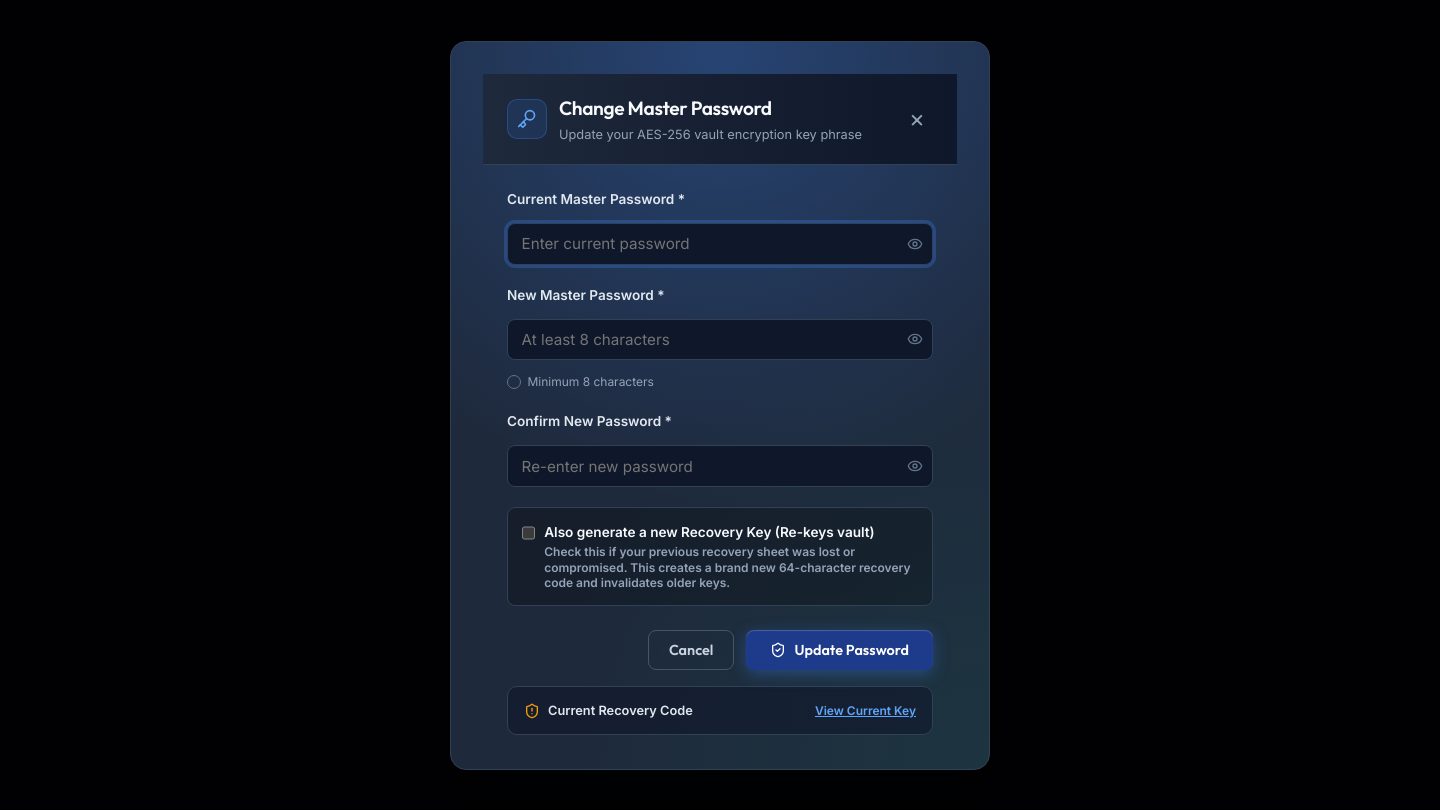
Test case: ChangePasswordModal Component › validates minimum password length and matching passwords
The width and height of the screenshot is (1440, 810).
In the password field with placeholder "Enter current password": (720, 244) [507,223,933,265], type "oldPass123"
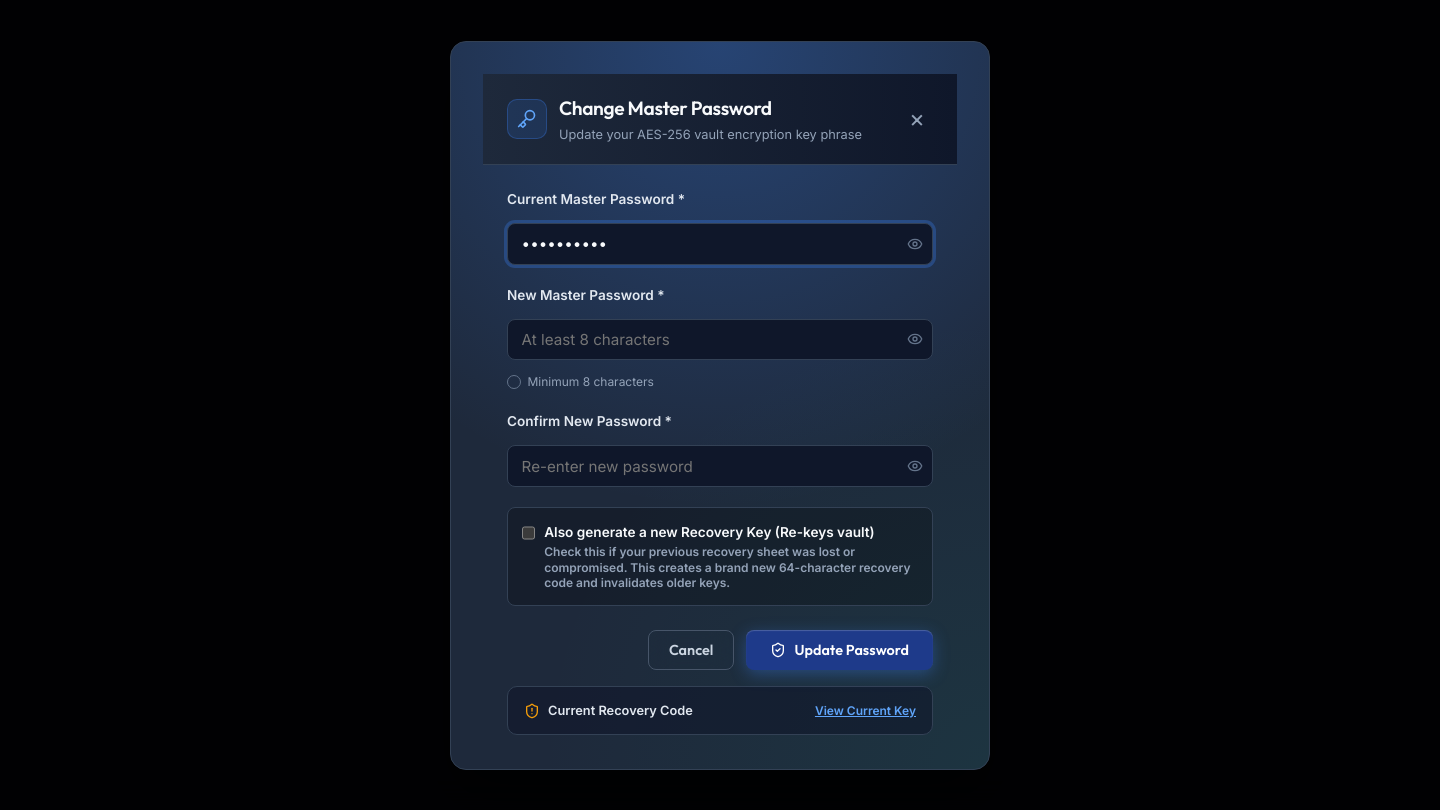
In the password field with placeholder "At least 8 characters": (720, 340) [507,319,933,360], type "short"
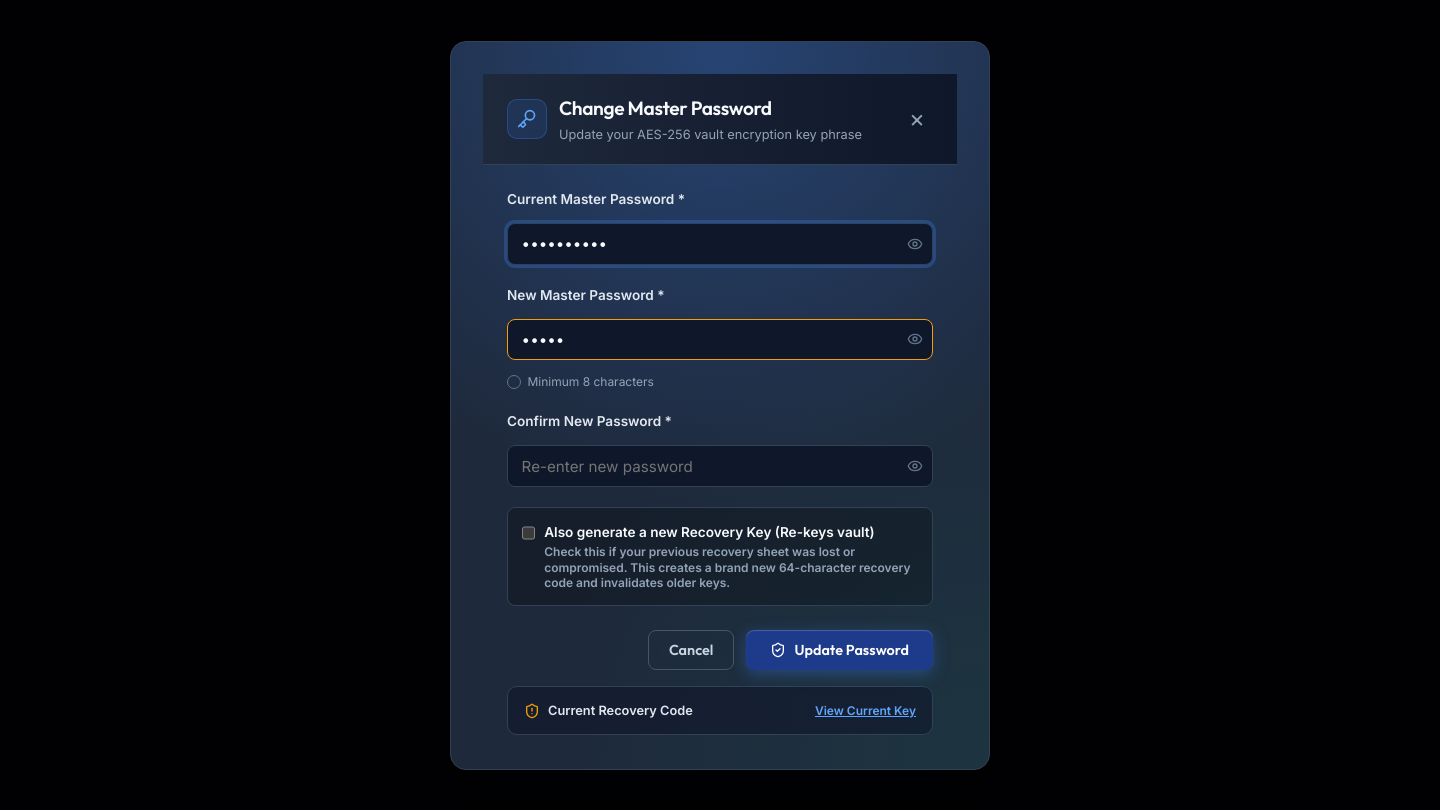
In the password field with placeholder "Re-enter new password": (720, 466) [507,445,933,487], type "short"
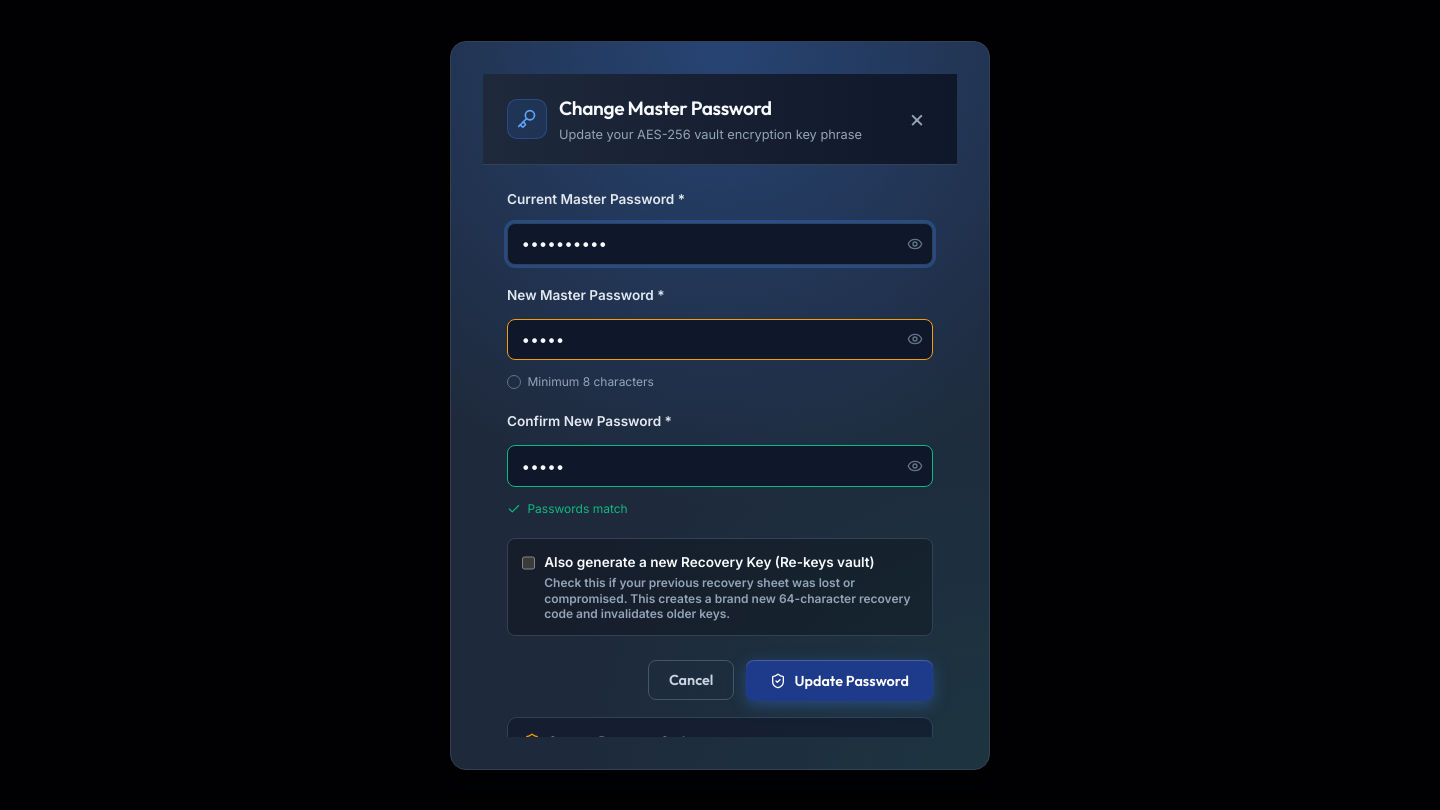
Expected: the button "Update Password" is disabled, [746,660,933,701]
Mismatched passwords
In the password field with placeholder "At least 8 characters" below "New Master Password *": (720, 340) [507,319,933,360], type "ValidPass123"
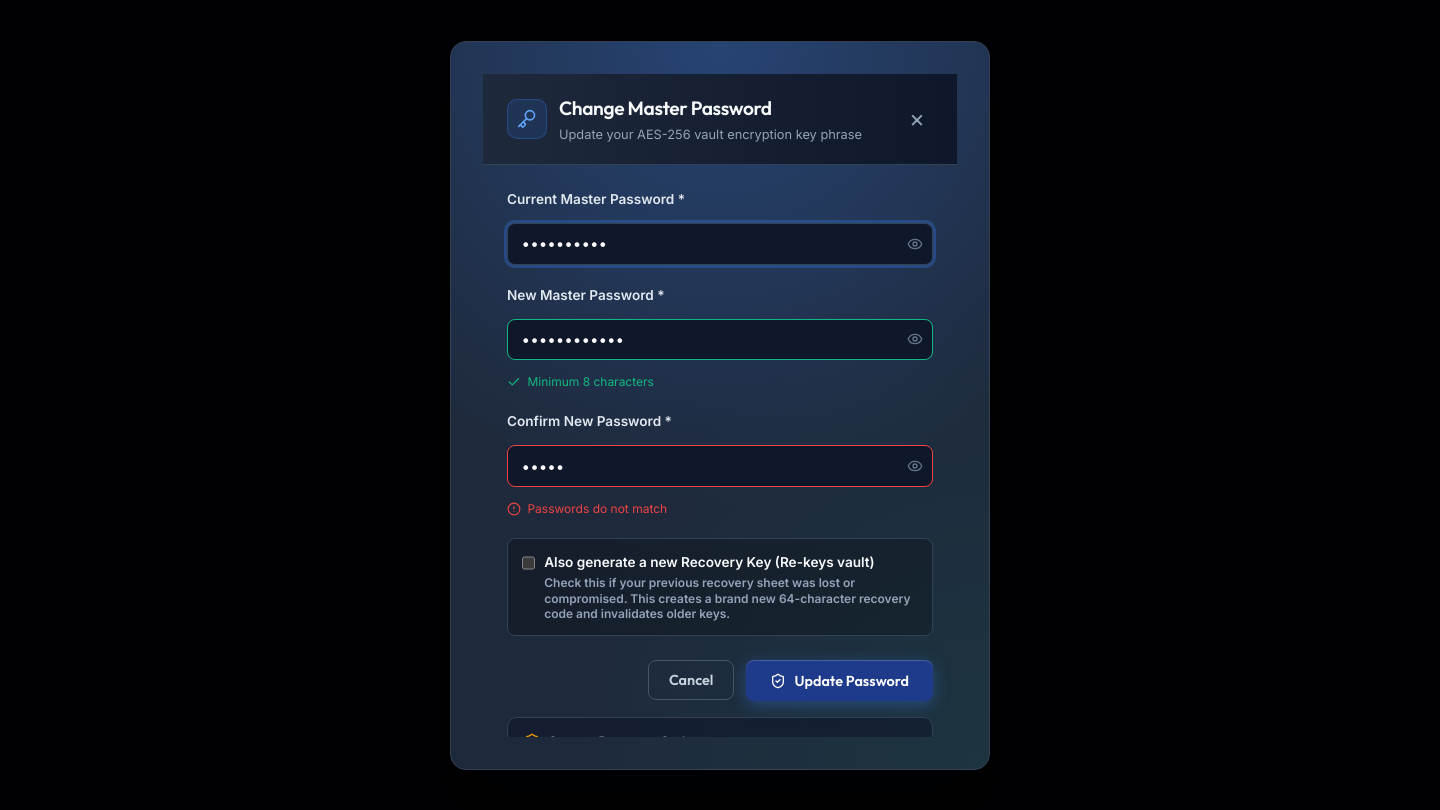
In the password field with placeholder "Re-enter new password" below "Confirm New Password *": (720, 466) [507,445,933,487], type "DifferentPass123"
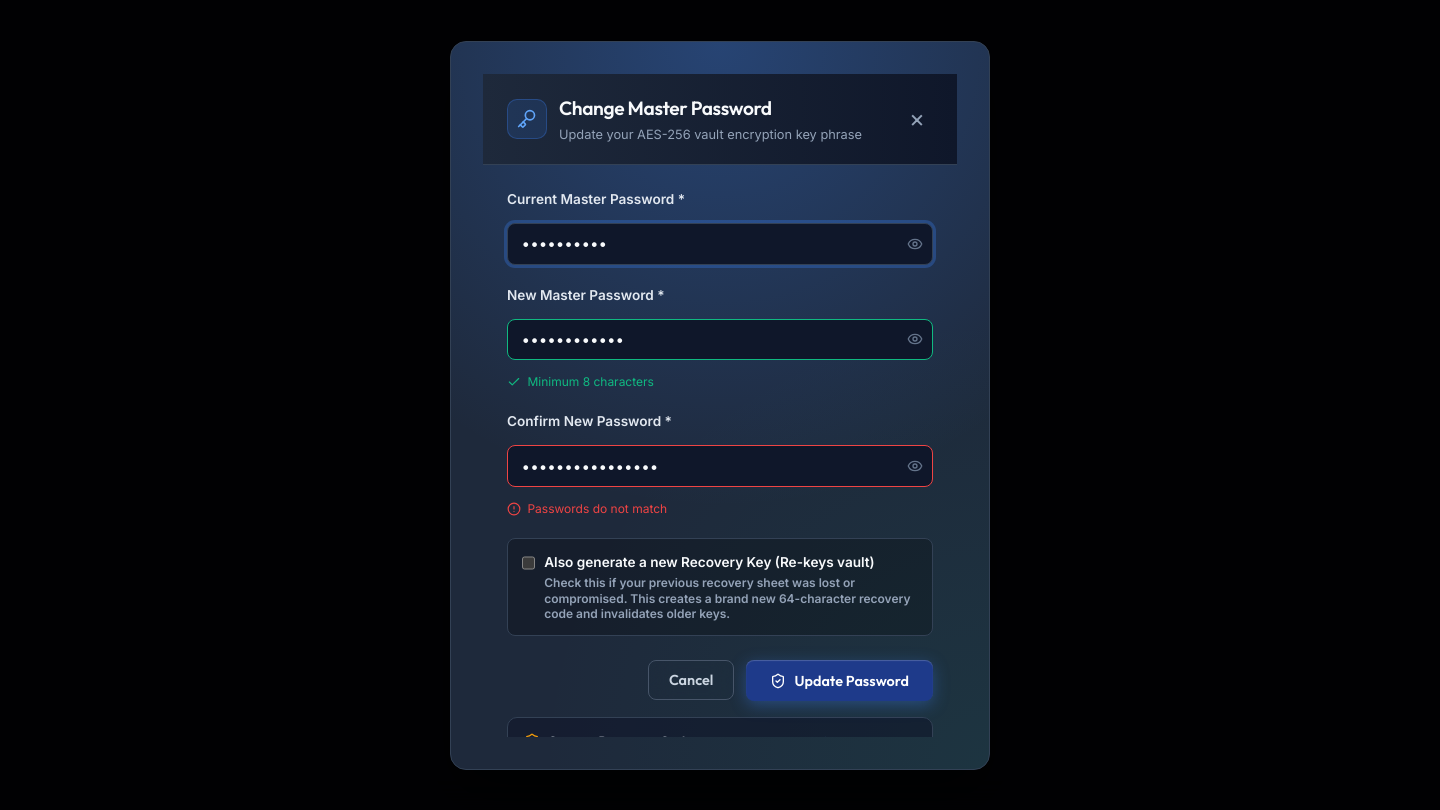
Expected: the button "Update Password" is disabled, [746,660,933,701]
Expected: the text "Passwords do not match" is shown, [527,500,667,518]
In the password field with placeholder "Re-enter new password" below "Confirm New Password *": (720, 466) [507,445,933,487], type "ValidPass123"
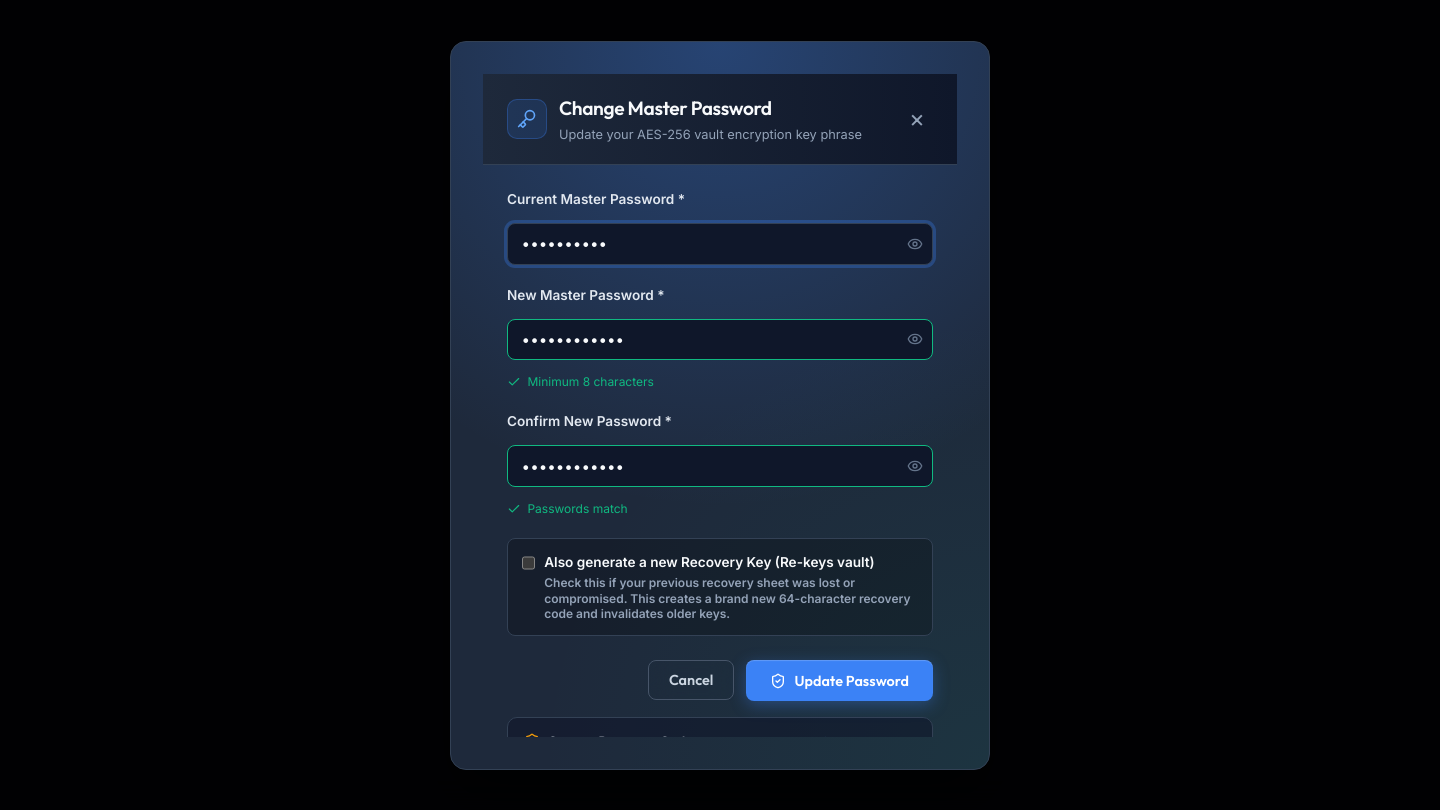
Expected: the button "Update Password" is enabled, [746,660,933,701]
Expected: the text "Passwords match" is shown, [527,500,628,518]
